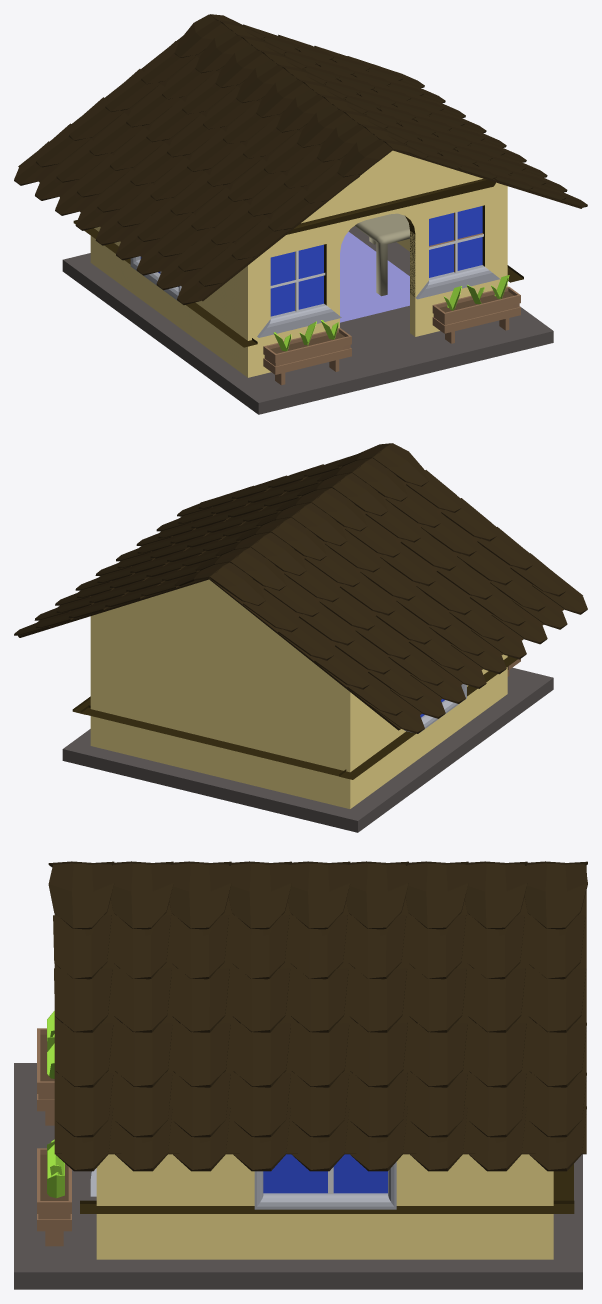
The model's file is HOUSENEW.glb.
3 renders of one model, top to bottom at view 1: azimuth 30°, elevation 25°; view 2: azimuth 150°, elevation 25°; view 3: azimuth 270°, elevation 25°, orthographic. The views are drawn at different scales.
Parts seen in each view (by area): view 1: Namas, Cube.001; view 2: Namas; view 3: Namas.
Boxes of the visible parts, bbox=[...] form: Namas: bbox=[14, 14, 587, 414]; Cube.001: bbox=[355, 213, 409, 296]; Namas: bbox=[14, 443, 587, 832]; Namas: bbox=[14, 861, 587, 1289].
Bounding box in the file's own units: 10.9 × 5.69 × 9.2.
